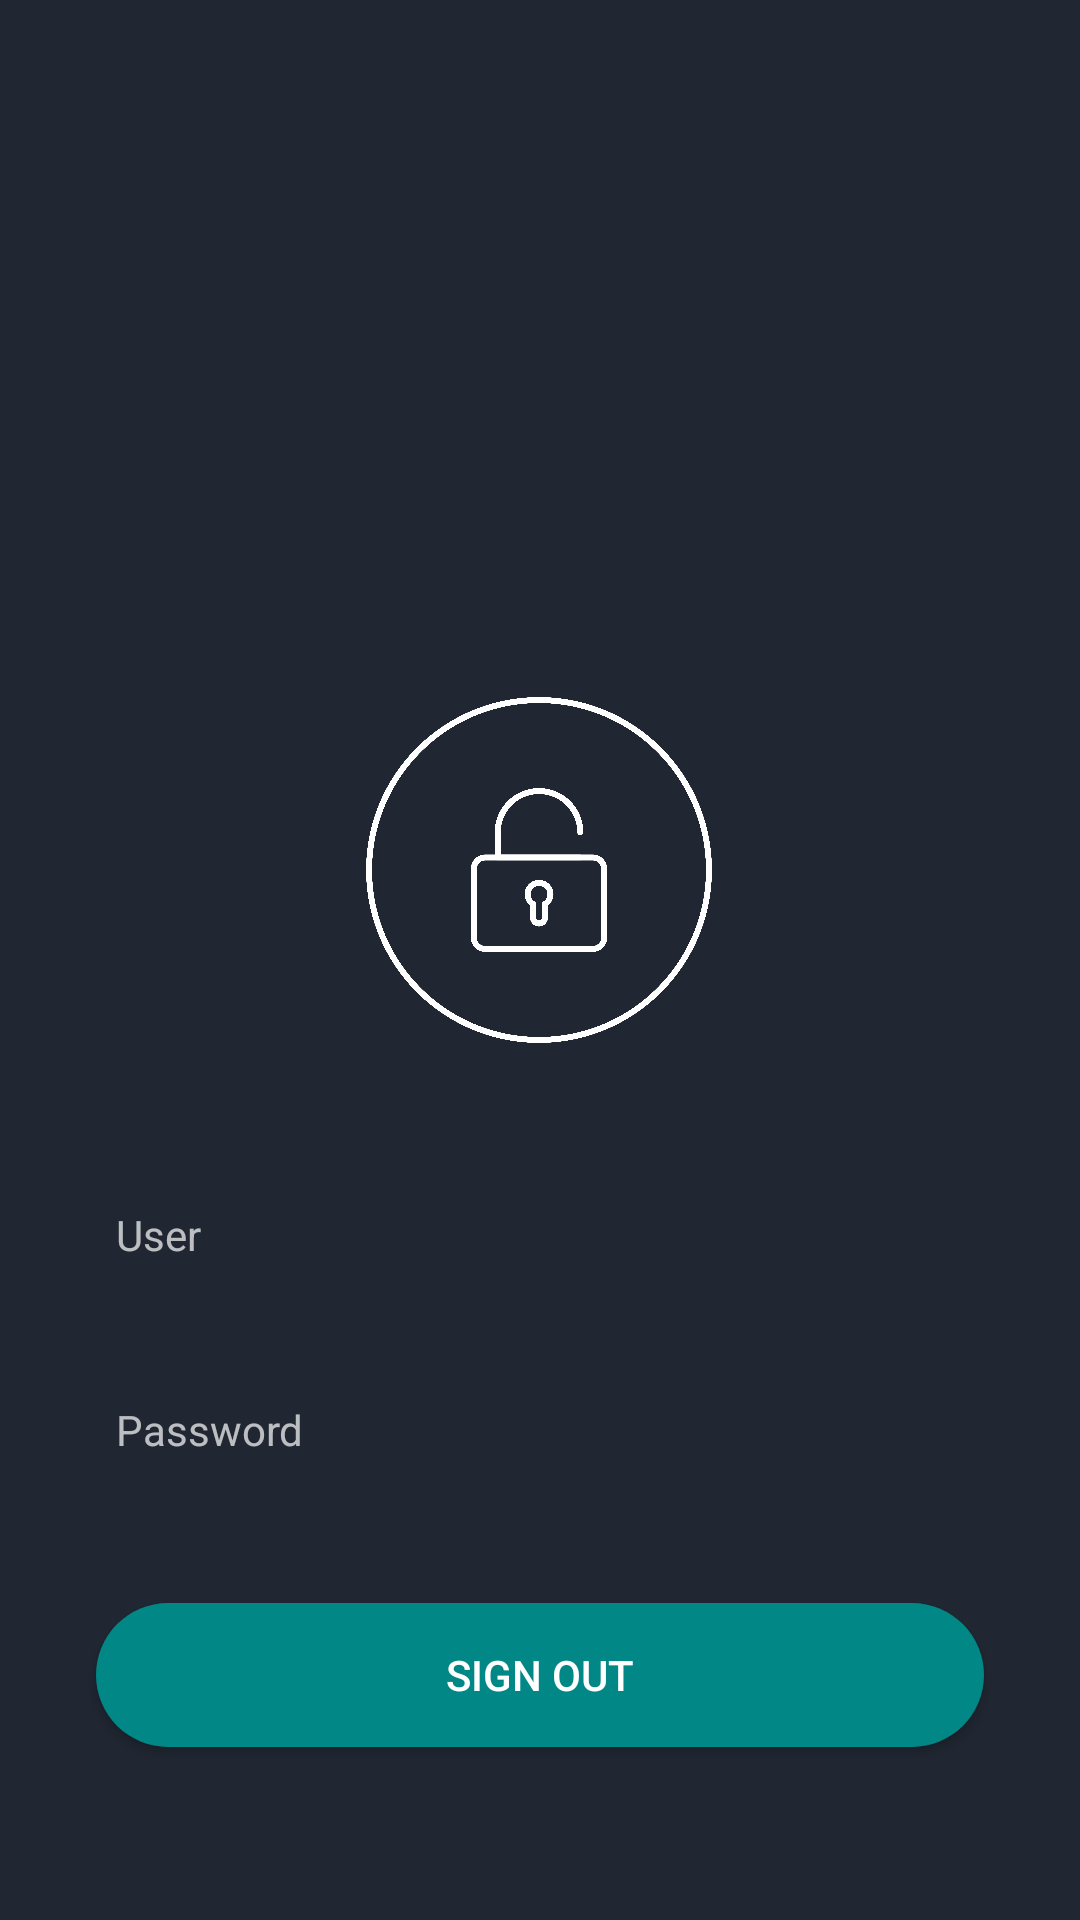

Locate icon controls on the screen. Image size 1080 x 1920, boxes as (x1, y1, x2, y2).
password: (366, 697, 712, 1043)
